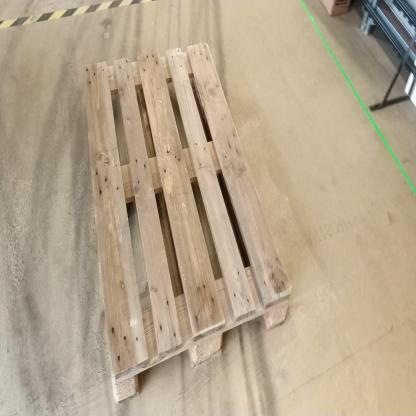BoxFace: (81, 33, 295, 409)
